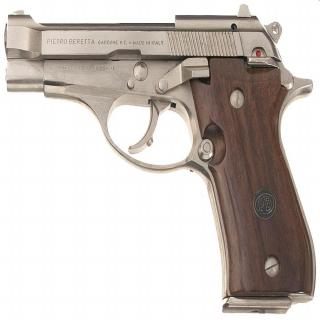gun: (2, 8, 314, 303)
